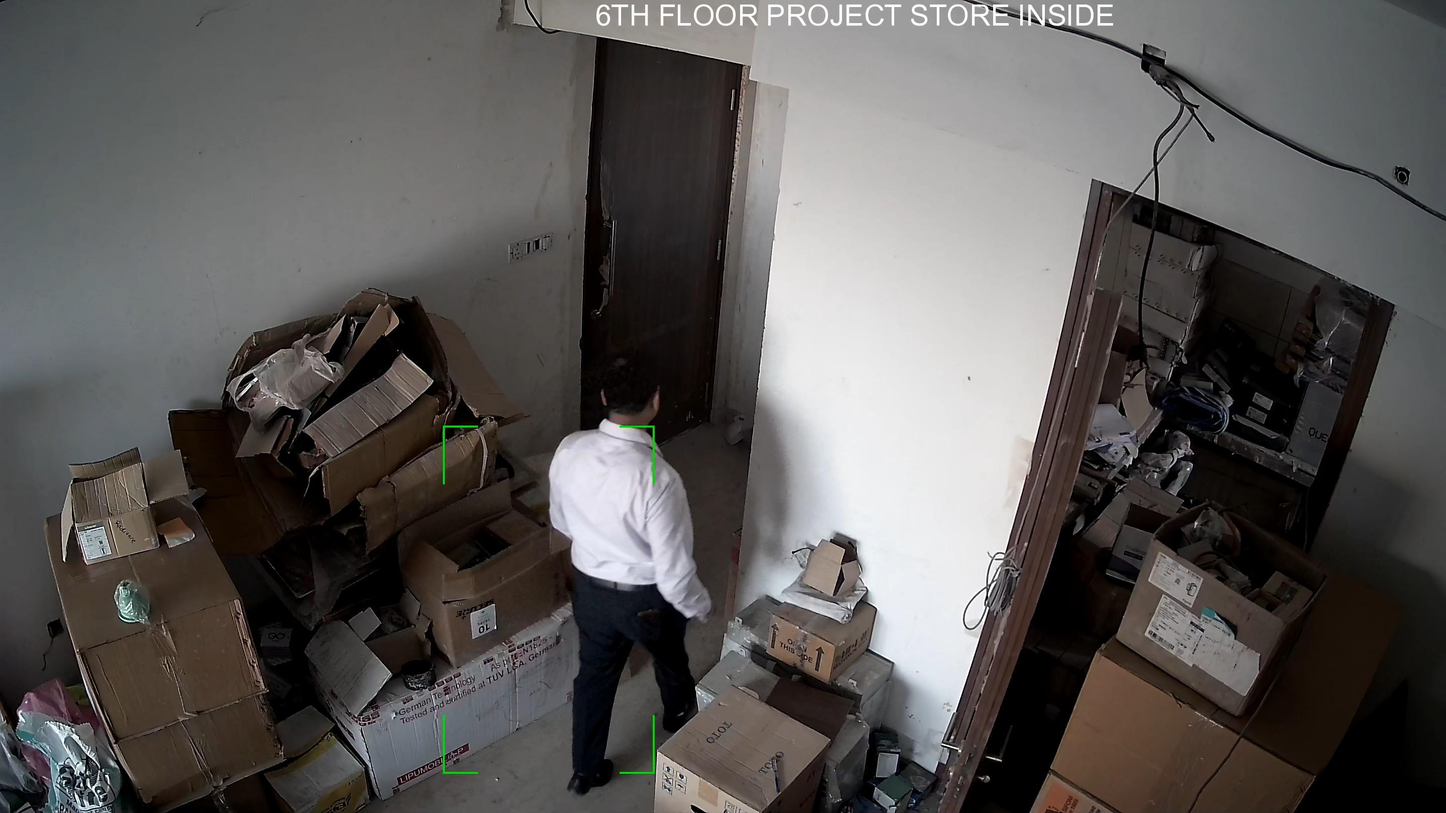Door-Close: (564, 34, 752, 451)
